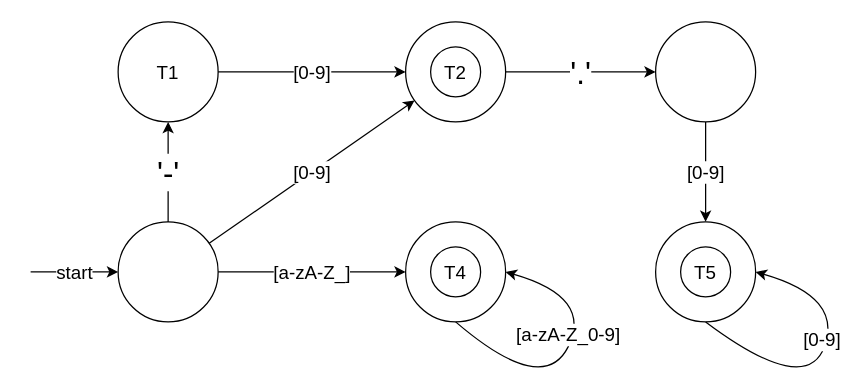
Some shapes in this 863 by 389 pixel diagram are drawn without their labels. The shapes that lost their labels are listed below. From the top down, each one's centre as x and y in pixels, then its label:
At (x=705, y=71): "T3".
At (x=167, y=271): "T0".
